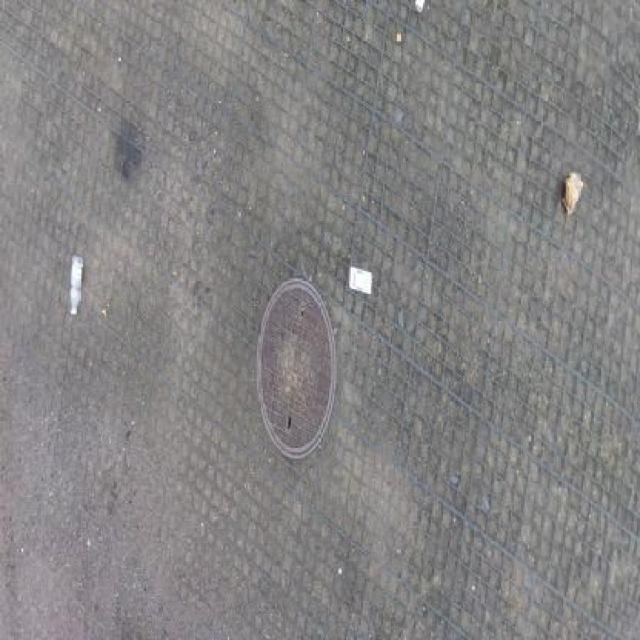Garbage: (560, 170, 586, 216), (70, 256, 84, 315), (349, 267, 372, 296), (414, 0, 426, 12), (397, 34, 400, 40)
